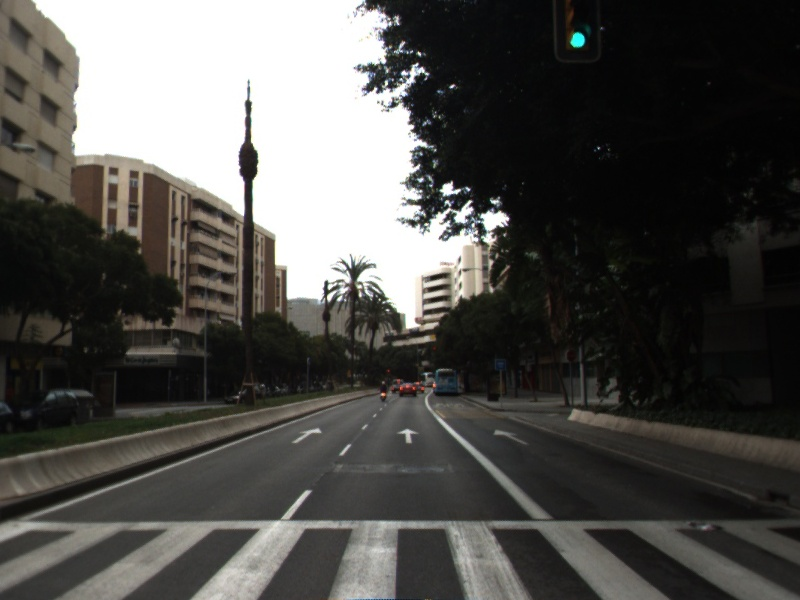STRAIGHT: (491, 427, 530, 447), (289, 425, 324, 445), (395, 426, 422, 446)
